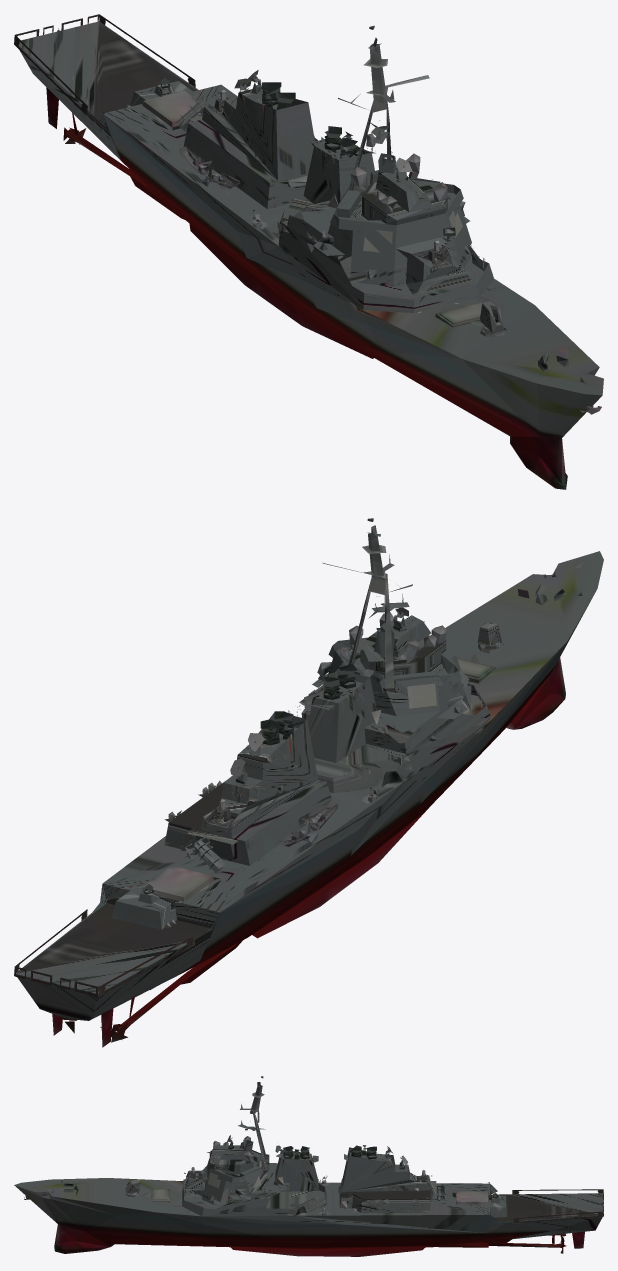
3 renders of one model, top to bottom at view 1: azimuth 30°, elevation 25°; view 2: azimuth 150°, elevation 25°; view 3: azimuth 270°, elevation 25°, orthographic. The views are drawn at different scales.
Visible parts, largest first — view 1: Object_6, Object_12, Object_14; view 2: Object_6, Object_14, Object_12; view 3: Object_6.
Part boxes in pixels (x1,y1,x2,y2): Object_6: [14, 14, 603, 489]; Object_12: [179, 146, 240, 188]; Object_14: [234, 70, 412, 181]; Object_6: [14, 518, 603, 1047]; Object_14: [230, 607, 408, 784]; Object_12: [278, 799, 338, 846]; Object_6: [14, 1076, 603, 1256].
Size of the model in its own units: 23.27 by 50.92 by 154.
Materials: 5 (5 with a texture image).
